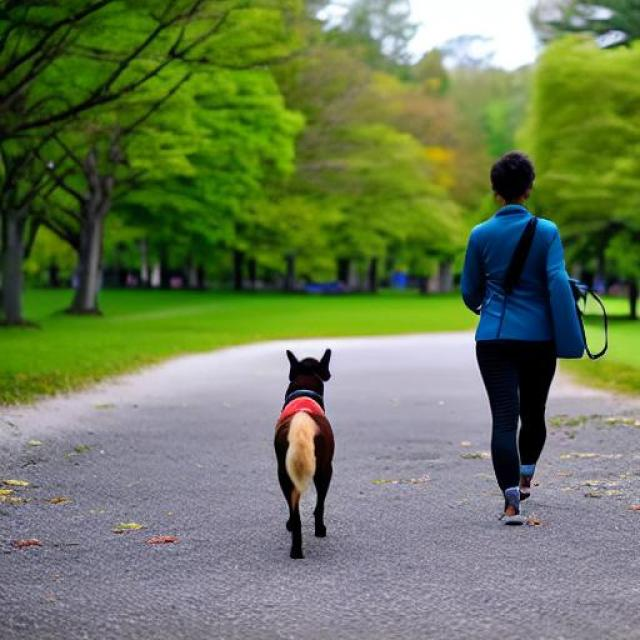Unleashed_Dog: (275, 347, 558, 560)
